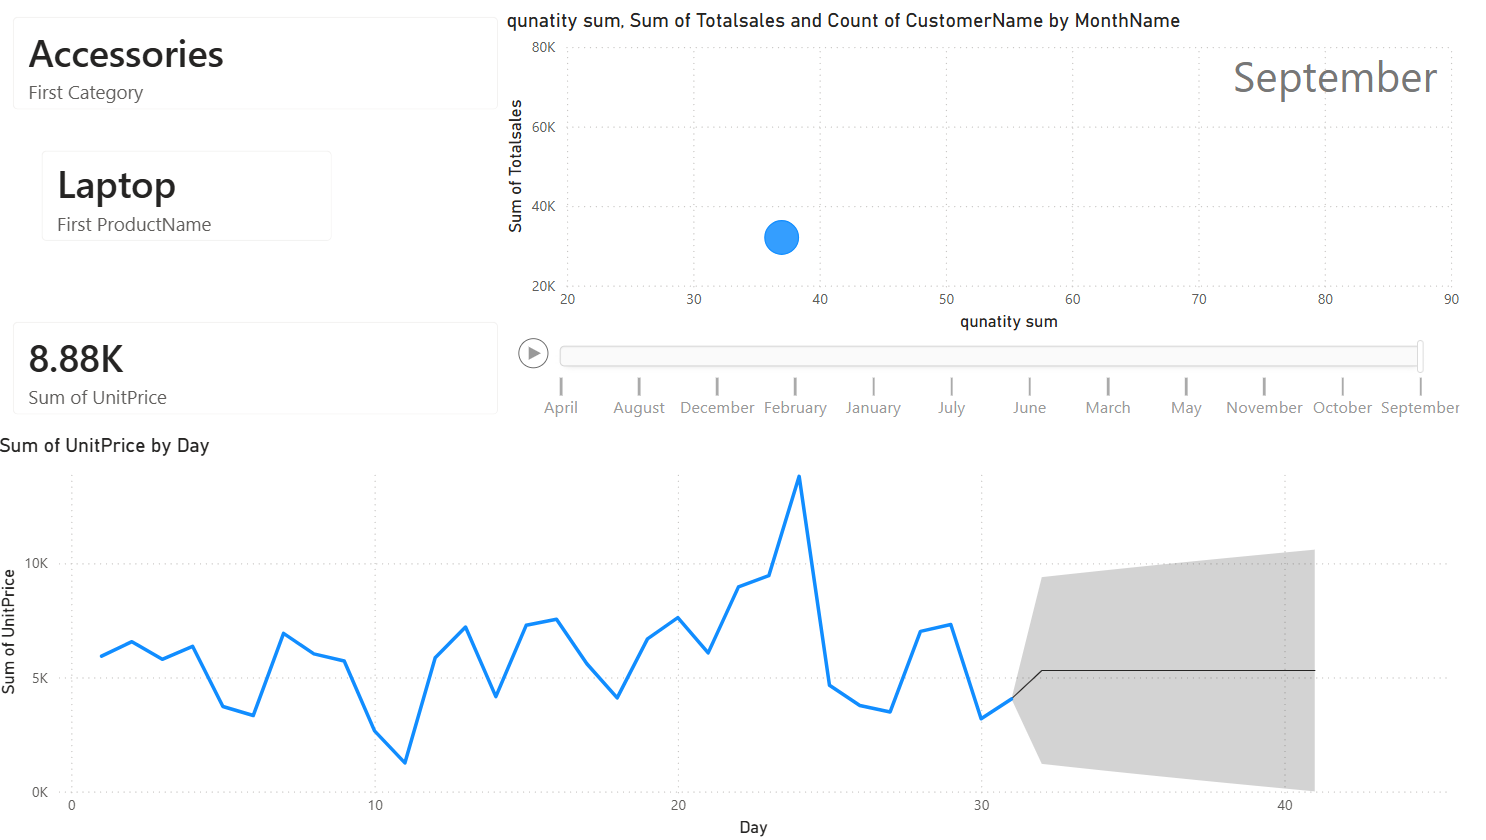

The page's visual inventory and layout, read from the dashboard file:
{"tool":"powerbi","page":{"name":"Page 3","canvas":[1280,720],"ordinal":2},"visuals":[{"type":"actionButton","box":[0,0,100,40],"z":0},{"type":"cardVisual","fields":{"Data":["Min(Dim_Products.ProductName)"]},"box":[24.4,113.3,281.1,111.1],"z":1000},{"type":"cardVisual","fields":{"Data":["Sum(Dim_Products.UnitPrice)"]},"box":[0,260,447.8,113.3],"z":2000},{"type":"cardVisual","fields":{"Data":["Min(Dim_Products.Category)"]},"box":[0,0,447.8,113.3],"z":3000},{"type":"lineChart","fields":{"Category":["Dim_Date.Date.Variation.Date Hierarchy.Day"],"Y":["Sum(Fact_Sales.UnitPrice)"]},"box":[0,371.1,1243.3,348.9],"z":4000},{"type":"scatterChart","fields":{"X":["Fact_Sales.qunatity sum"],"Y":["Sum(Fact_Sales.Totalsales)"],"Play":["Dim_Date.MonthName"],"Size":["CountNonNull(Dim_Customers.CustomerName)"]},"box":[432.2,10,821.1,360],"z":4001}]}

Visuals, with their boxes in screenshot pixels (x1, y1, x2, y2), scaled from the page's 1280x720 canvas onto the 1486x840 screenshot:
actionButton: l=0, t=0, r=116, b=47
cardVisual - Min(Dim_Products.ProductName): l=28, t=132, r=355, b=262
cardVisual - Sum(Dim_Products.UnitPrice): l=0, t=303, r=520, b=436
cardVisual - Min(Dim_Products.Category): l=0, t=0, r=520, b=132
lineChart - Dim_Date.Date.Variation.Date Hierarchy.Day x Sum(Fact_Sales.UnitPrice): l=0, t=433, r=1443, b=839
scatterChart - Fact_Sales.qunatity sum x Sum(Fact_Sales.Totalsales): l=502, t=12, r=1455, b=432
